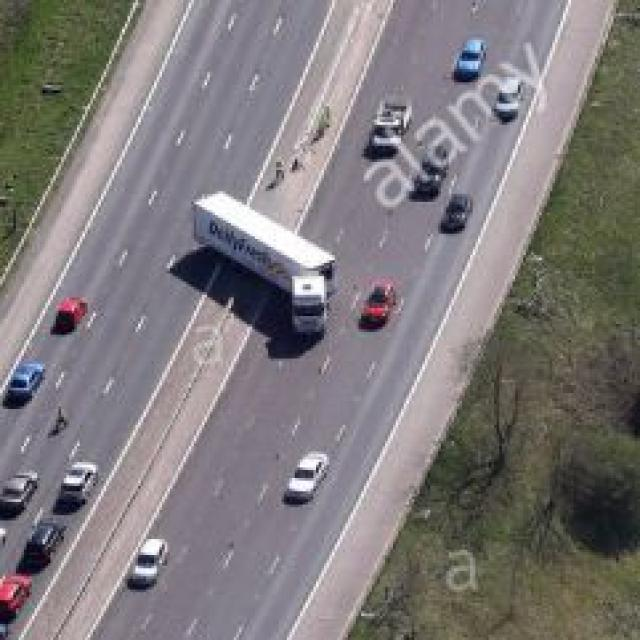traffic_incident: (178, 183, 340, 340)
